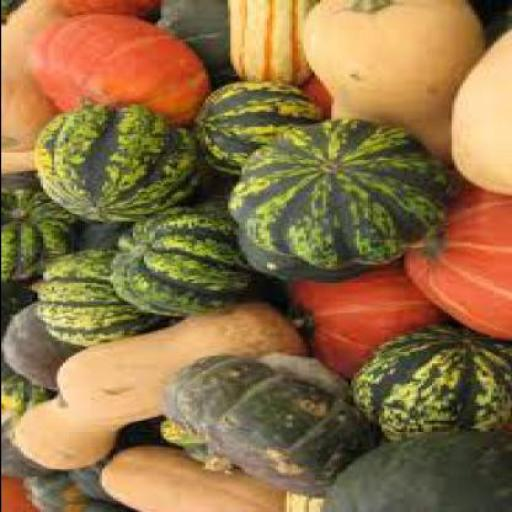biodegradable: (224, 118, 448, 266), (154, 350, 378, 496), (294, 0, 484, 166), (50, 298, 302, 421), (28, 101, 196, 221), (283, 262, 451, 377), (28, 13, 198, 125), (350, 328, 510, 440), (398, 183, 510, 339), (316, 428, 510, 510), (106, 203, 246, 315), (25, 246, 157, 345), (95, 445, 280, 510), (2, 0, 76, 153), (202, 84, 316, 174), (447, 28, 509, 192), (232, 222, 375, 280), (9, 393, 117, 465), (224, 0, 313, 84), (1, 171, 70, 279), (1, 298, 73, 390), (148, 0, 230, 80), (2, 372, 34, 475), (17, 467, 84, 510), (1, 408, 42, 478), (64, 452, 118, 497), (64, 216, 128, 249), (45, 0, 153, 17), (294, 73, 328, 117), (0, 472, 37, 510), (152, 418, 204, 444), (179, 443, 221, 468), (277, 489, 319, 510), (1, 146, 31, 172), (73, 499, 129, 510)
